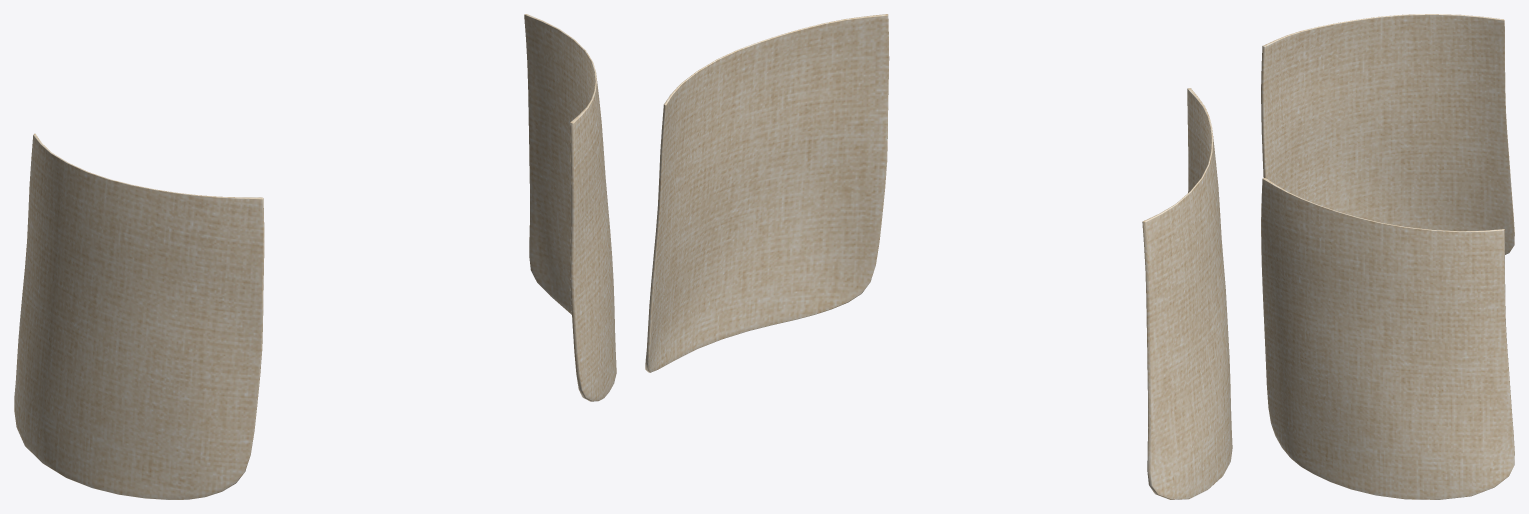
The model's file is Patch_Pockets.glb.
3 renders of one model, left to right at view 1: azimuth 30°, elevation 25°; view 2: azimuth 150°, elevation 25°; view 3: azimuth 270°, elevation 25°, orthographic. The views are drawn at different scales.
Parts seen in each view (by area): view 1: Patch_Pockets; view 2: Patch_Pockets; view 3: Patch_Pockets.
Boxes of the visible parts, left/top/right/bottom form: Patch_Pockets: left=14, top=14, right=616, bottom=499; Patch_Pockets: left=645, top=14, right=1232, bottom=499; Patch_Pockets: left=1261, top=14, right=1514, bottom=499.
Bounding box in the file's own units: 0.0486 × 0.0263 × 0.0222.
1 material, 1 textured.
